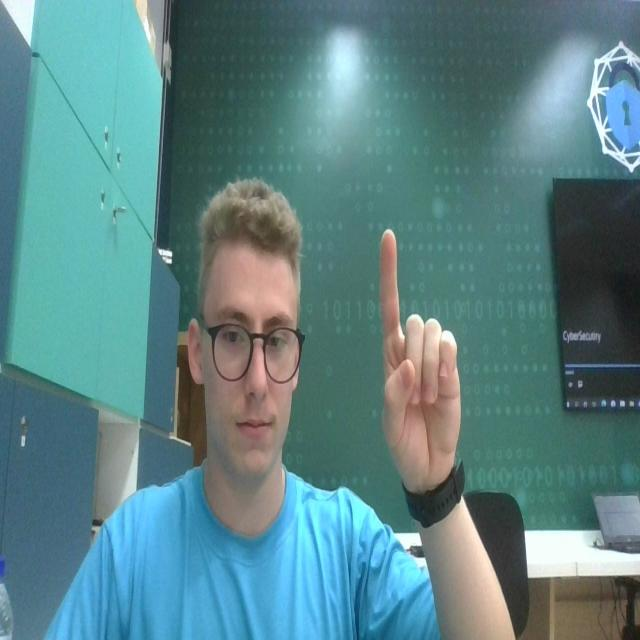D2: (363, 227, 468, 489)
